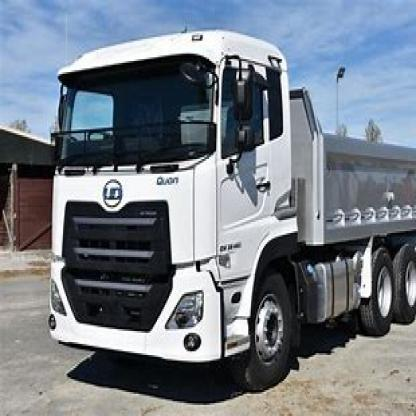dump_truck: (29, 22, 414, 396)
